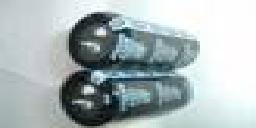Electrolytic Capacitor: (68, 6, 207, 68), (57, 69, 196, 128)
